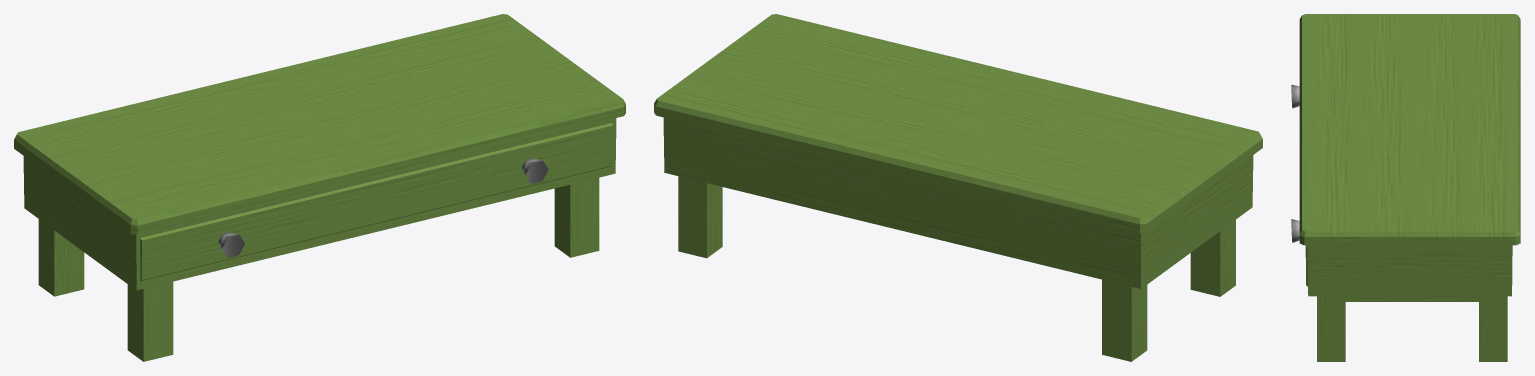
File: Coffee_Table_B_4.FBX
3 renders of one model, left to right at view 1: azimuth 30°, elevation 25°; view 2: azimuth 150°, elevation 25°; view 3: azimuth 270°, elevation 25°, orthographic. The views are drawn at different scales.
Parts seen in each view (by area): view 1: Coffee Table_B; view 2: Coffee Table_B; view 3: Coffee Table_B.
Boxes of the visible parts, left/top/right/bottom form: Coffee Table_B: left=14, top=14, right=625, bottom=361; Coffee Table_B: left=654, top=14, right=1262, bottom=361; Coffee Table_B: left=1291, top=14, right=1520, bottom=361.
Bounding box in the file's own units: 201 × 58.91 × 88.61.
